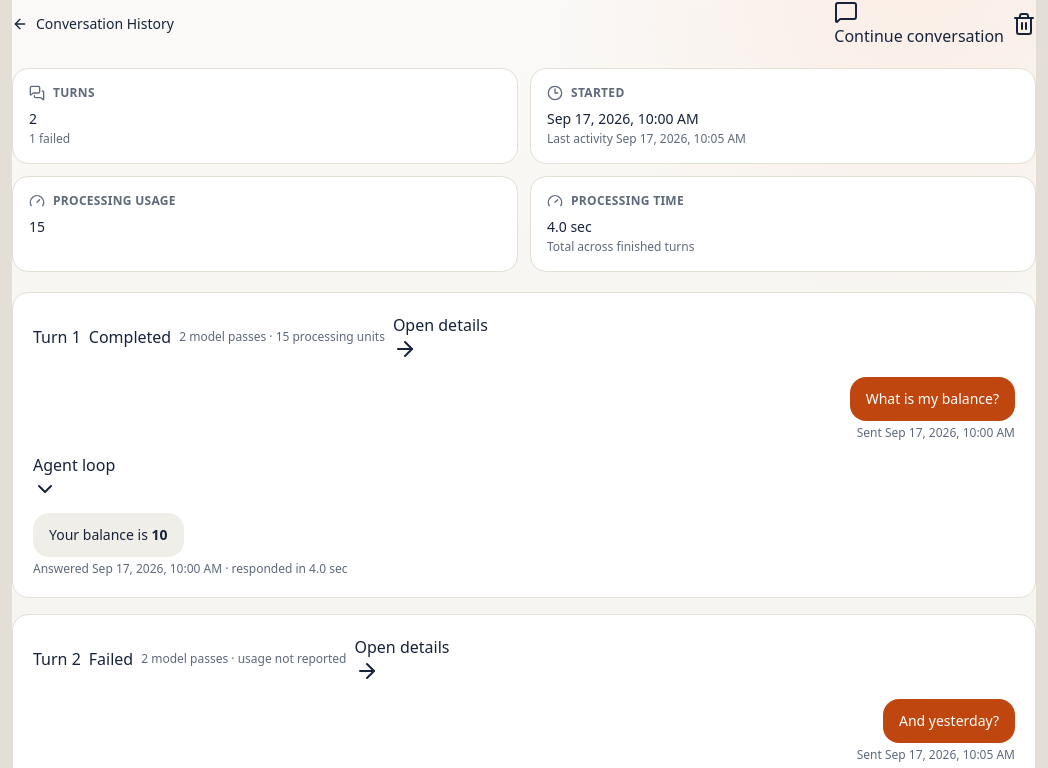
Test: ConversationDetailPage › shows each turn with its timing, status and a link to the full activity
This screenshot has width=1048, height=768.
Expected: the text "What is my balance?" is shown, [850,377,1015,421]
Expected: the text "10" is shown, [152,525,168,544]
Click the button "Agent loop".
click(74, 477)  # box [33,453,115,501]
(page scrolled)
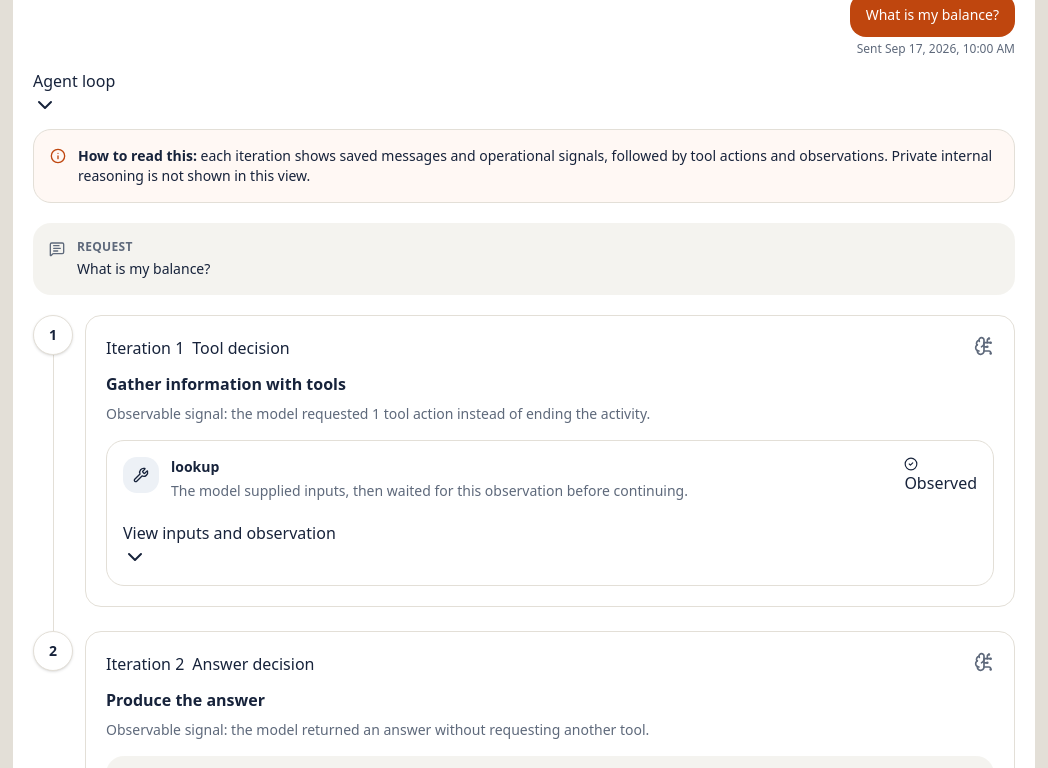
Expected: the text "Request" is shown, [77,238,133,255]
Expected: the heading "Gather information with tools" is shown, [106,372,346,396]
